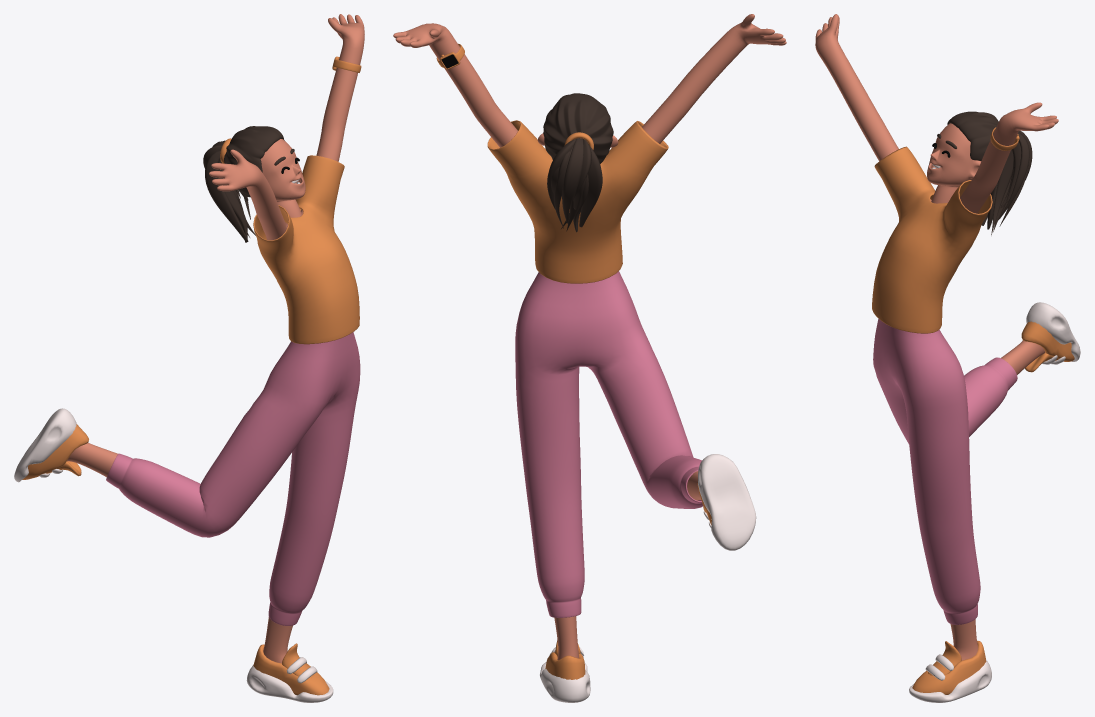
File: icons8_joyful_young_woman_jumping.fbx
3 views of the same model, side by side, from view 1: azimuth 30°, elevation 25°; view 2: azimuth 150°, elevation 25°; view 3: azimuth 270°, elevation 25° (orthographic). The views are drawn at different scales.
Parts seen in each view (by area): view 1: icons8_joyful_young_woman_jumping; view 2: icons8_joyful_young_woman_jumping; view 3: icons8_joyful_young_woman_jumping.
Boxes of the visible parts, x1,y1,x2,y2 form: icons8_joyful_young_woman_jumping: [14, 14, 364, 702]; icons8_joyful_young_woman_jumping: [393, 14, 786, 702]; icons8_joyful_young_woman_jumping: [815, 14, 1080, 702].
Bounding box in the file's own units: 199 × 349 × 134.
